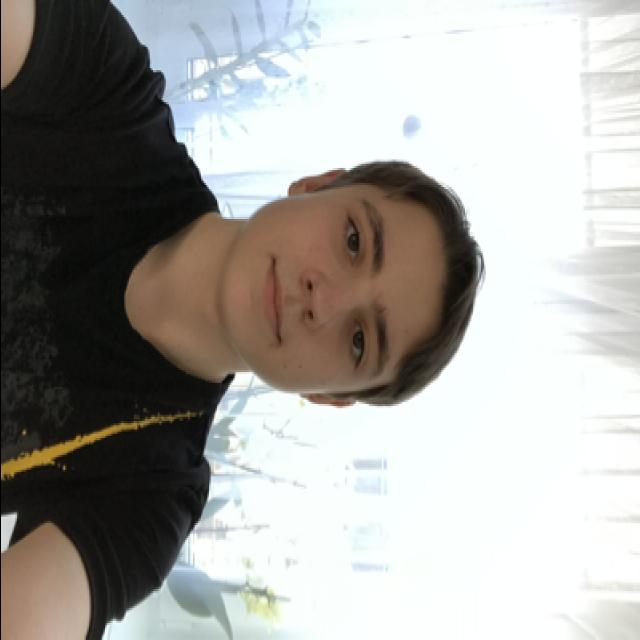without_mask: (220, 188, 393, 396)
